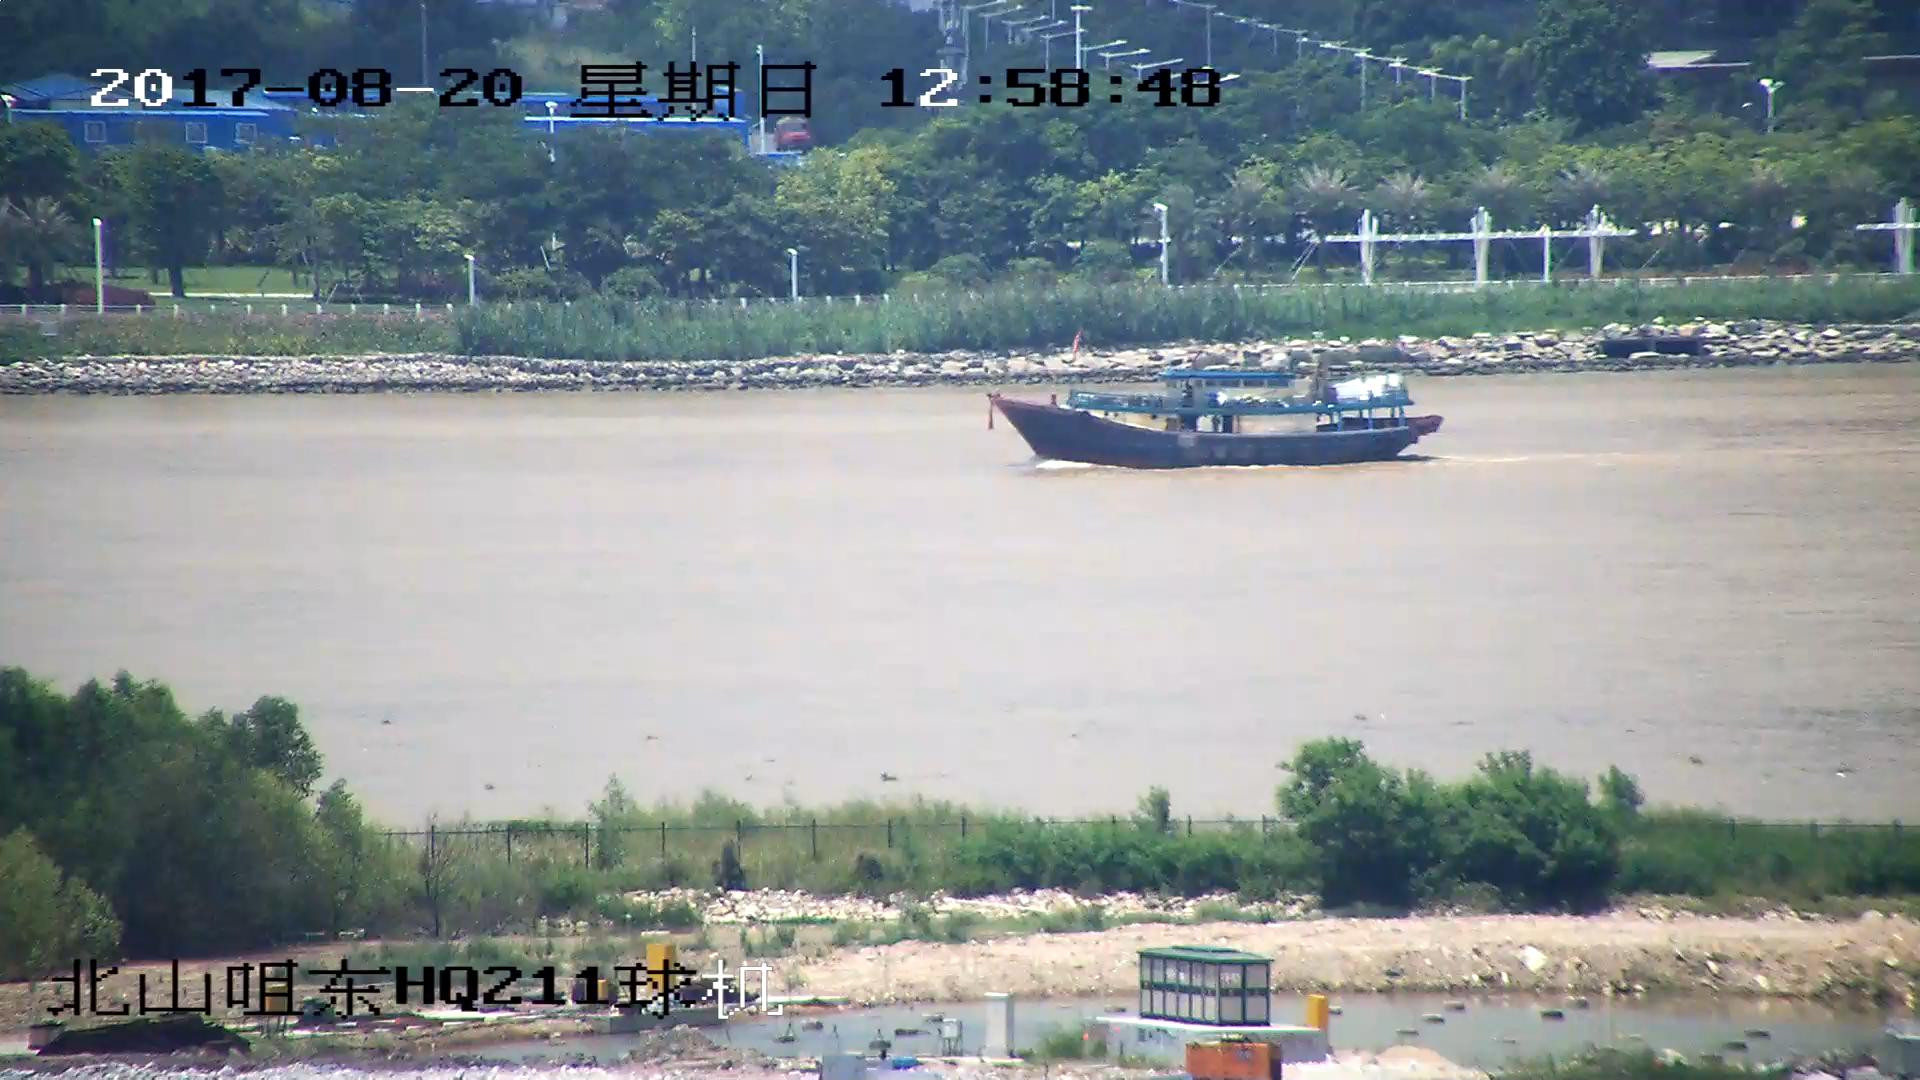fishing boat: (987, 370, 1445, 462)
